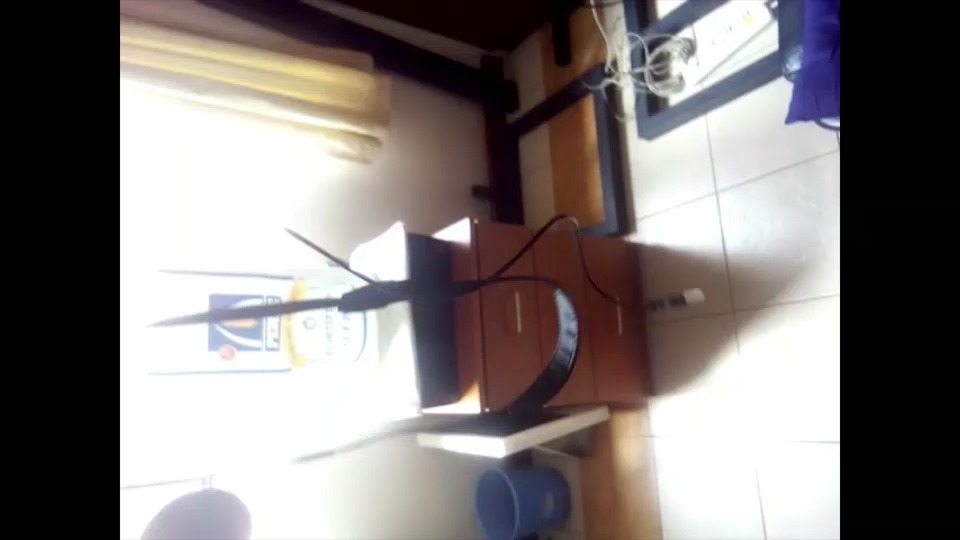wheat_flour_blue_label: (144, 263, 373, 380)
